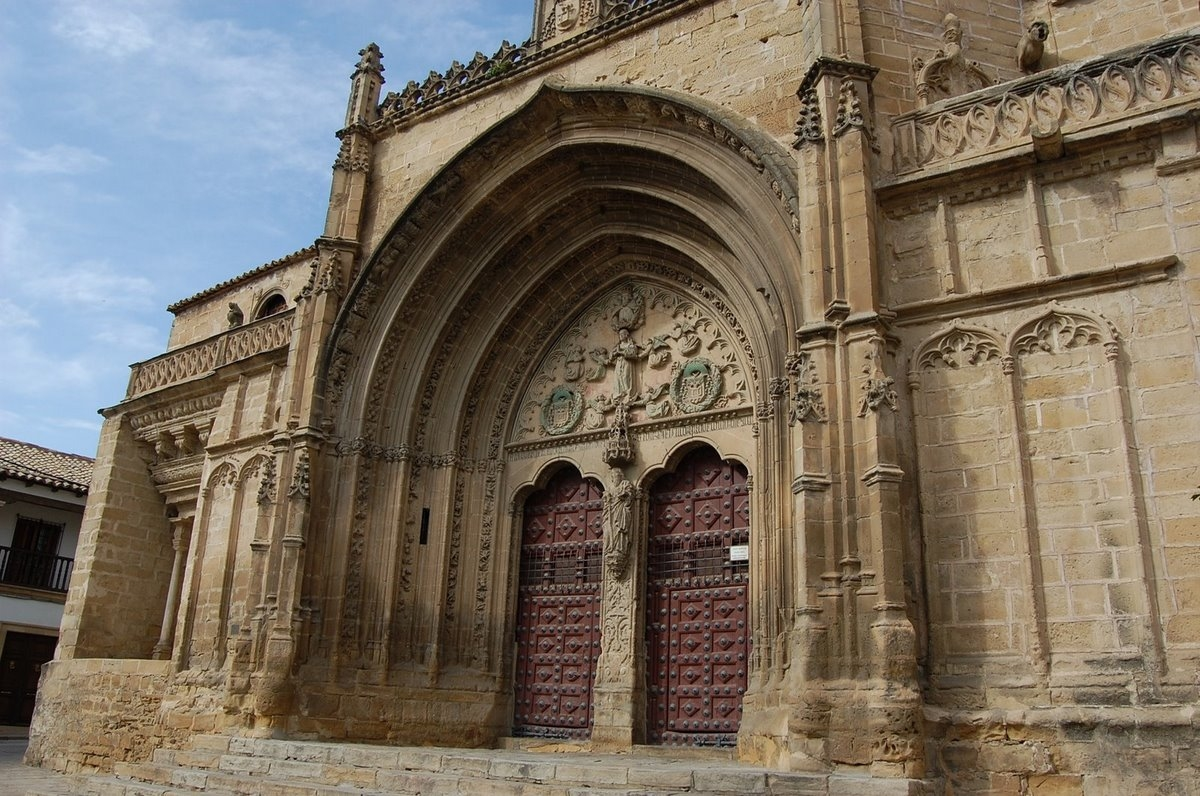arco-apuntado: (417, 136, 776, 424)
arco-conopial: (473, 74, 704, 134)
arco-trilobulado: (633, 433, 758, 501), (509, 452, 612, 510)
